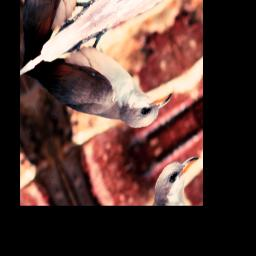Cuckoo: (23, 0, 177, 183)
